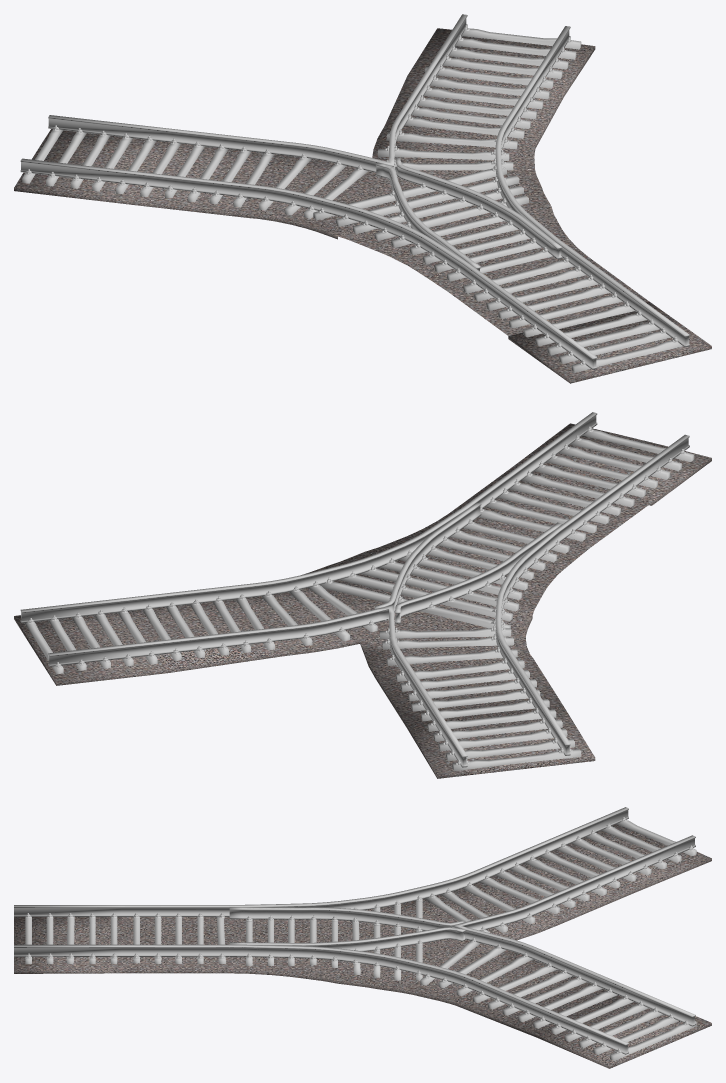
File: track_fork1_wood.fbx
The picture shows the model from 3 angles, top to bottom: view 1: azimuth 30°, elevation 25°; view 2: azimuth 150°, elevation 25°; view 3: azimuth 270°, elevation 25°; orthographic projection. The views are drawn at different scales.
Parts seen in each view (by area): view 1: ground, concrete, rails; view 2: ground, concrete, rails; view 3: ground, rails, concrete.
Part boxes in pixels (left/top/right/bottom): ground: left=14, top=28, right=711, bottom=383; concrete: left=22, top=28, right=689, bottom=372; rails: left=20, top=14, right=689, bottom=369; ground: left=14, top=423, right=711, bottom=778; concrete: left=24, top=429, right=694, bottom=771; rails: left=20, top=412, right=689, bottom=767; ground: left=14, top=824, right=711, bottom=1068; rails: left=14, top=807, right=695, bottom=1054; concrete: left=25, top=820, right=696, bottom=1060.
Size of the model in its own units: 11.7 by 0.3829 by 13.74.
